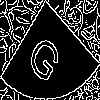G: (24, 24, 68, 87)
